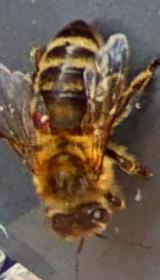varroa_mite: (26, 98, 60, 138)
